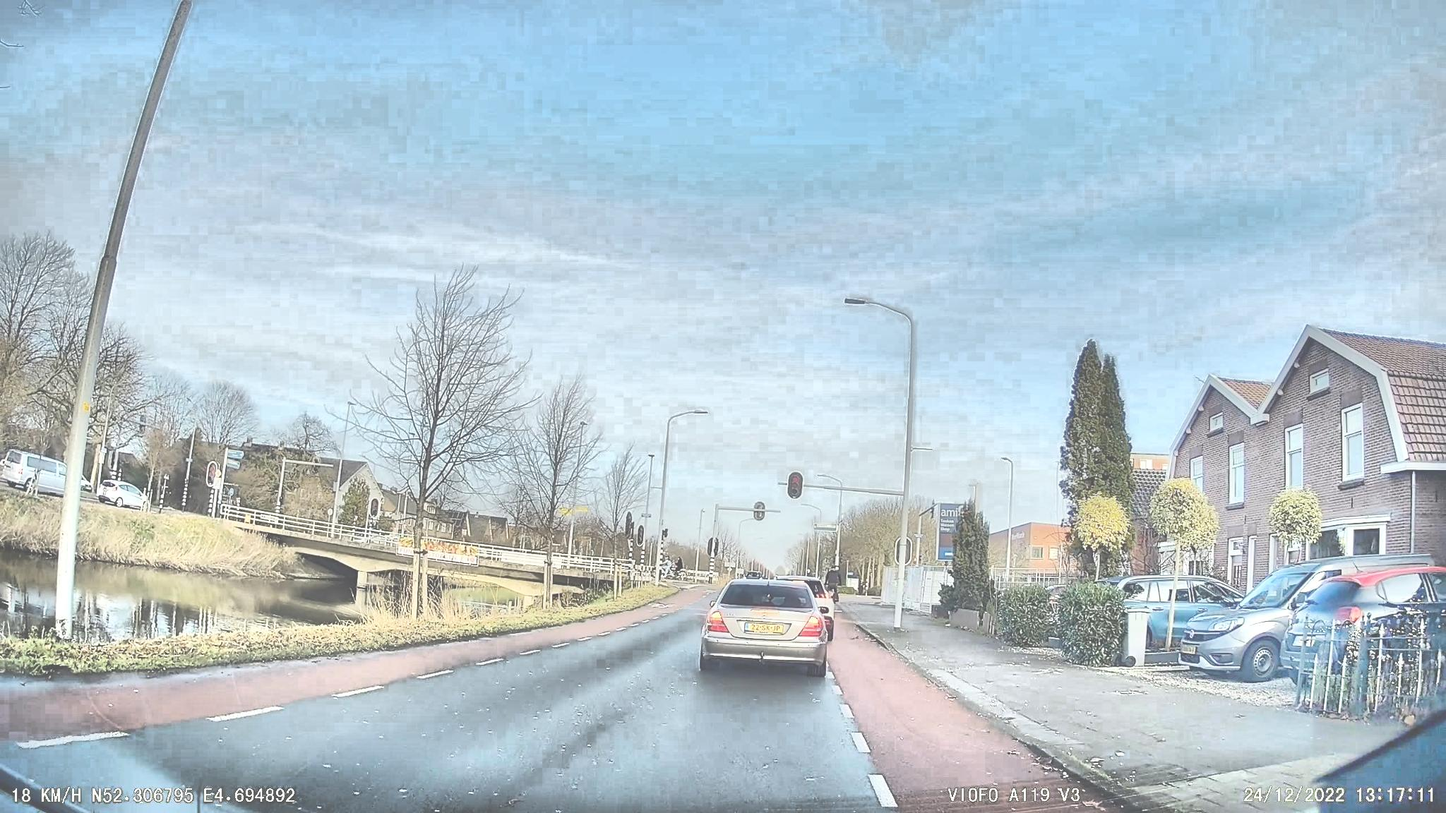Roads: (0, 593, 1082, 813)
